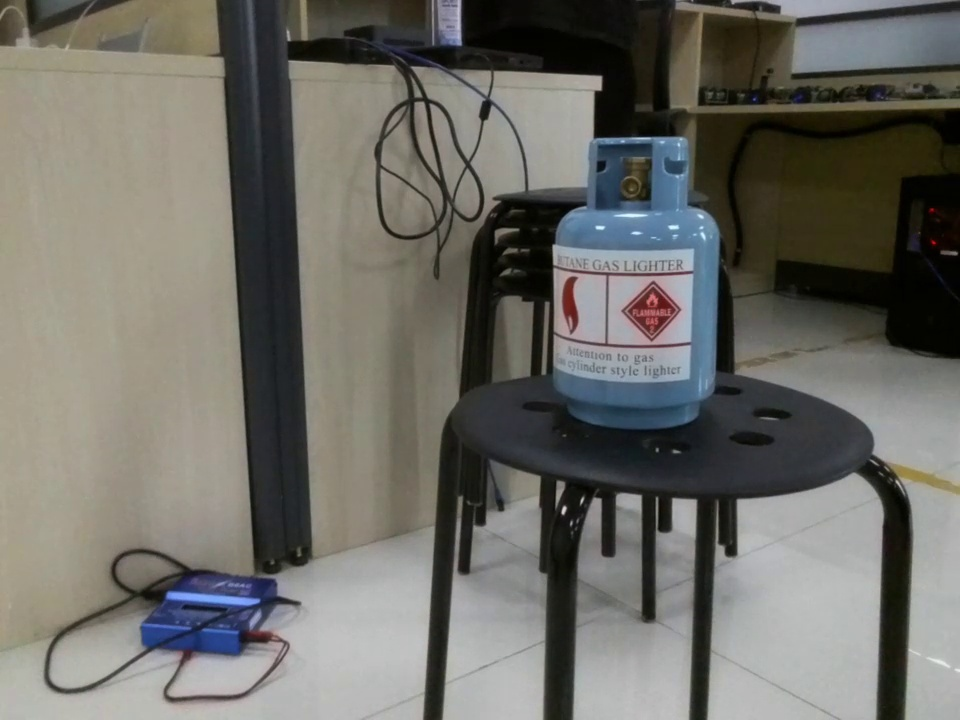gas tank: (554, 131, 723, 443)
